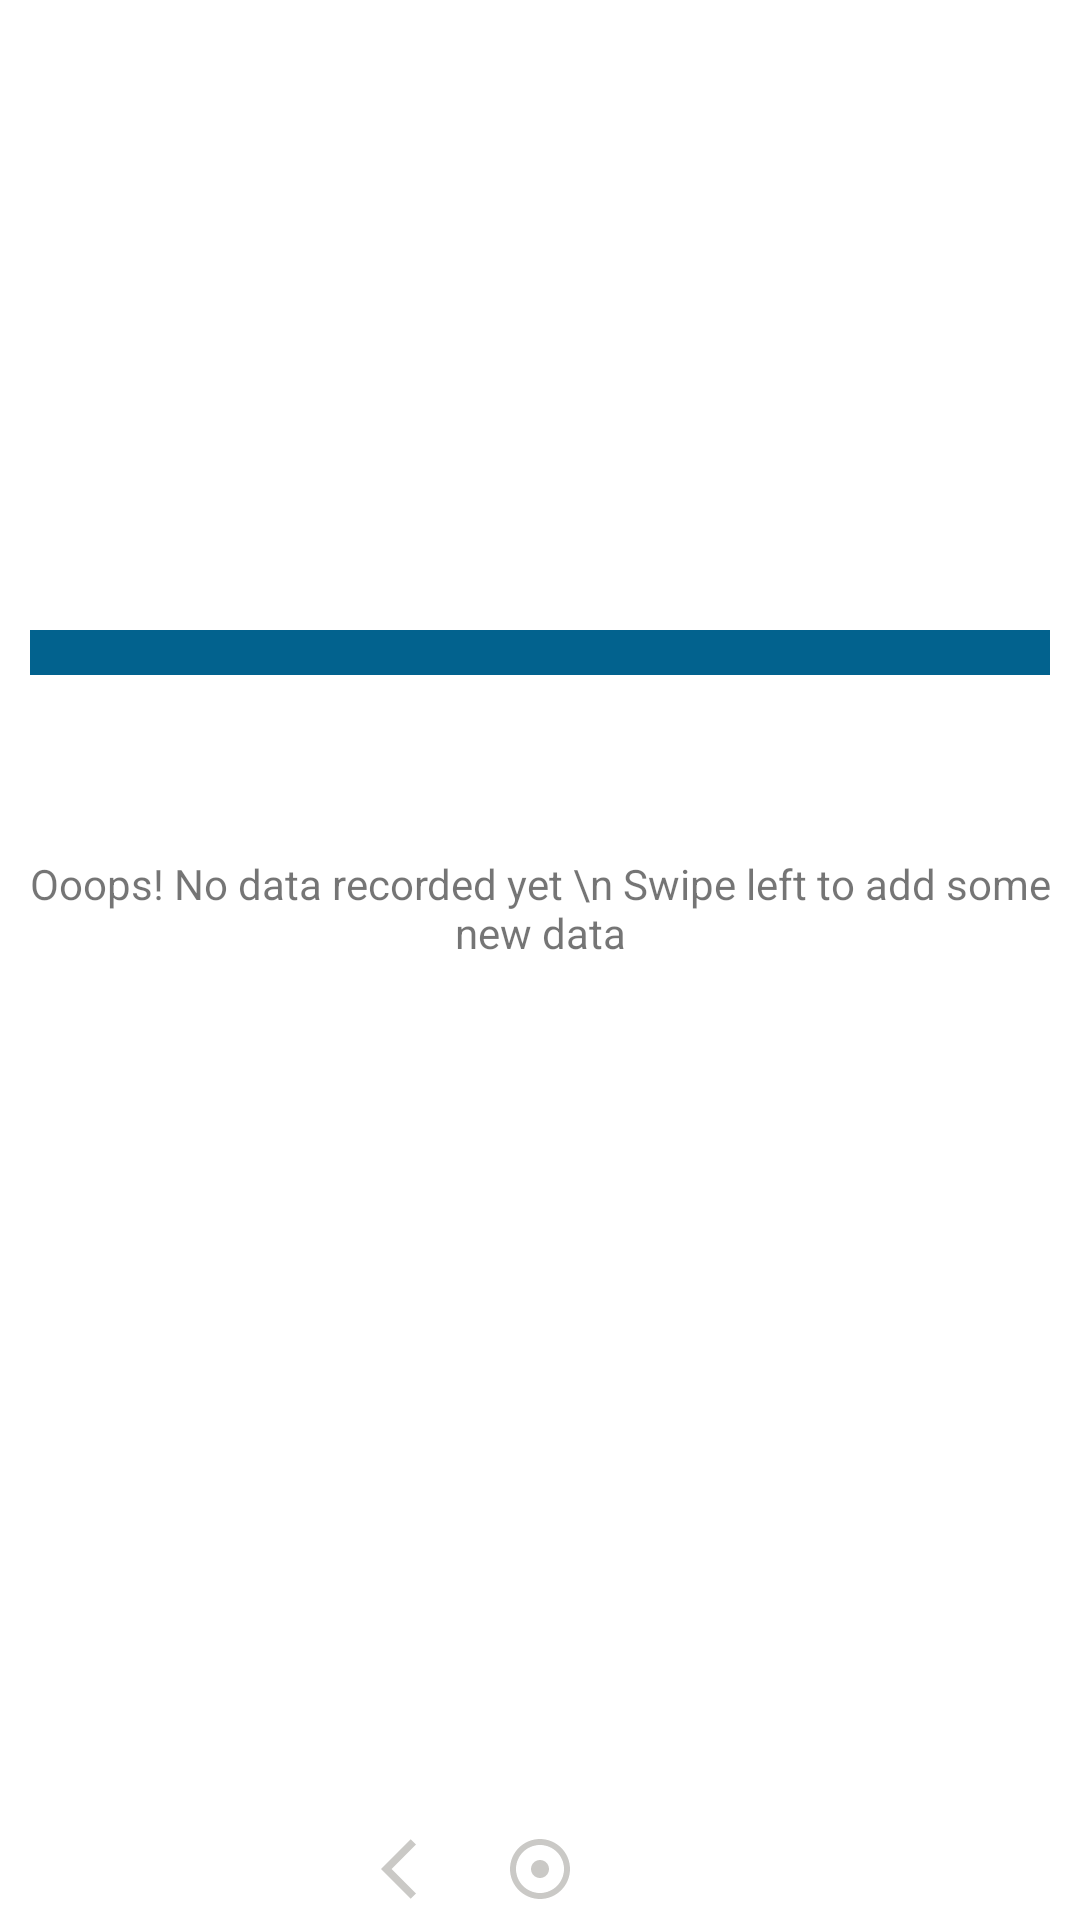

Screen size 1080x1920. Icon name, then its box in pixels as (x1, y1, x2, y2):
arrow back: (381, 1839, 416, 1899)
current month: (510, 1839, 570, 1899)
